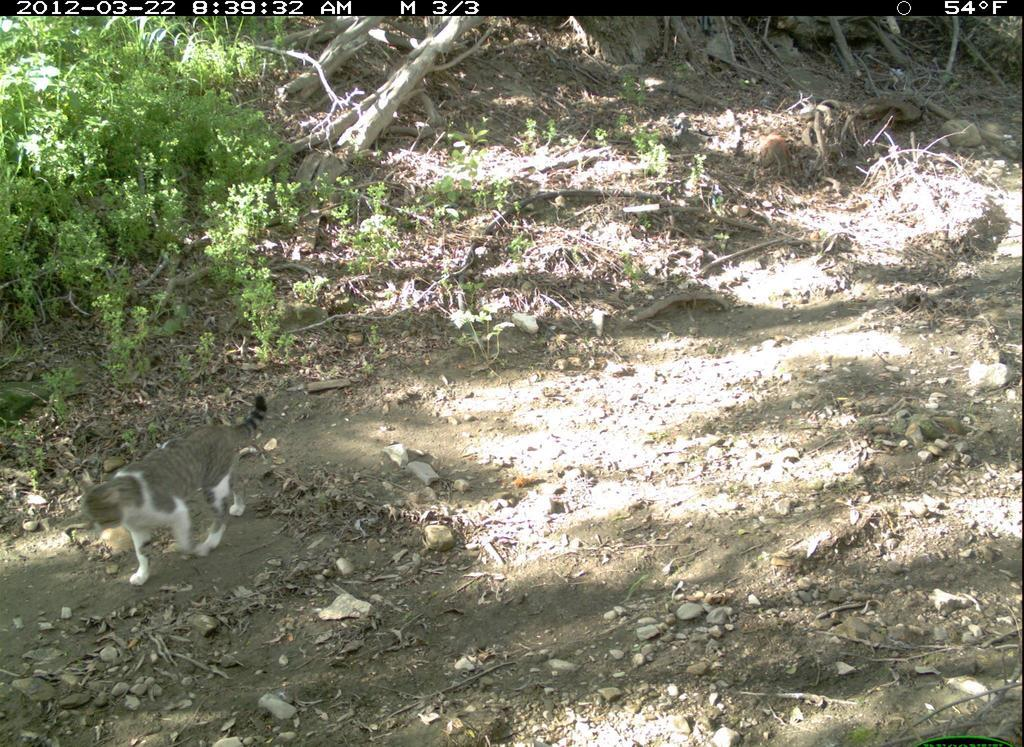cat: (73, 390, 286, 589)
